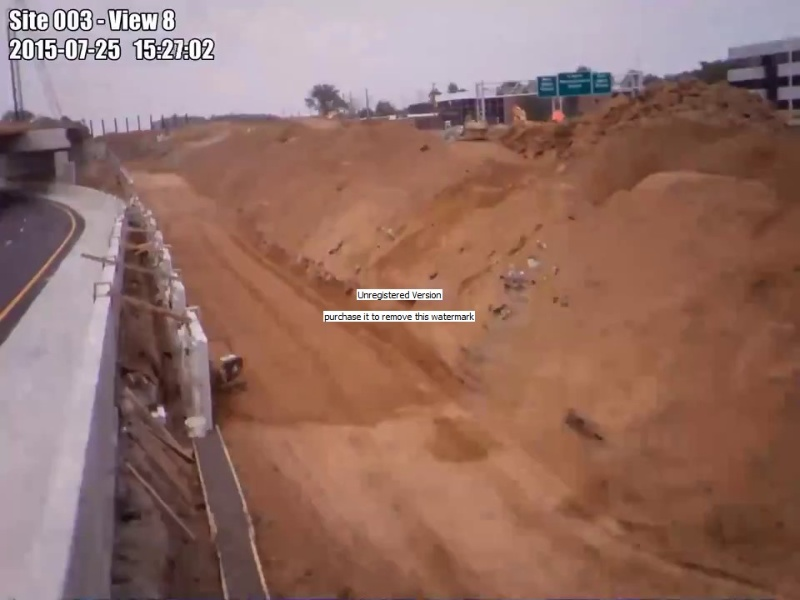columns: (88, 118, 95, 136), (113, 118, 120, 135), (100, 119, 107, 135), (124, 116, 130, 134), (148, 114, 154, 130), (171, 113, 177, 129), (161, 113, 166, 132), (184, 113, 190, 125), (136, 115, 141, 129)
pipe: (123, 461, 198, 543), (124, 427, 196, 506), (127, 387, 194, 466)
wall: (117, 165, 214, 437)
